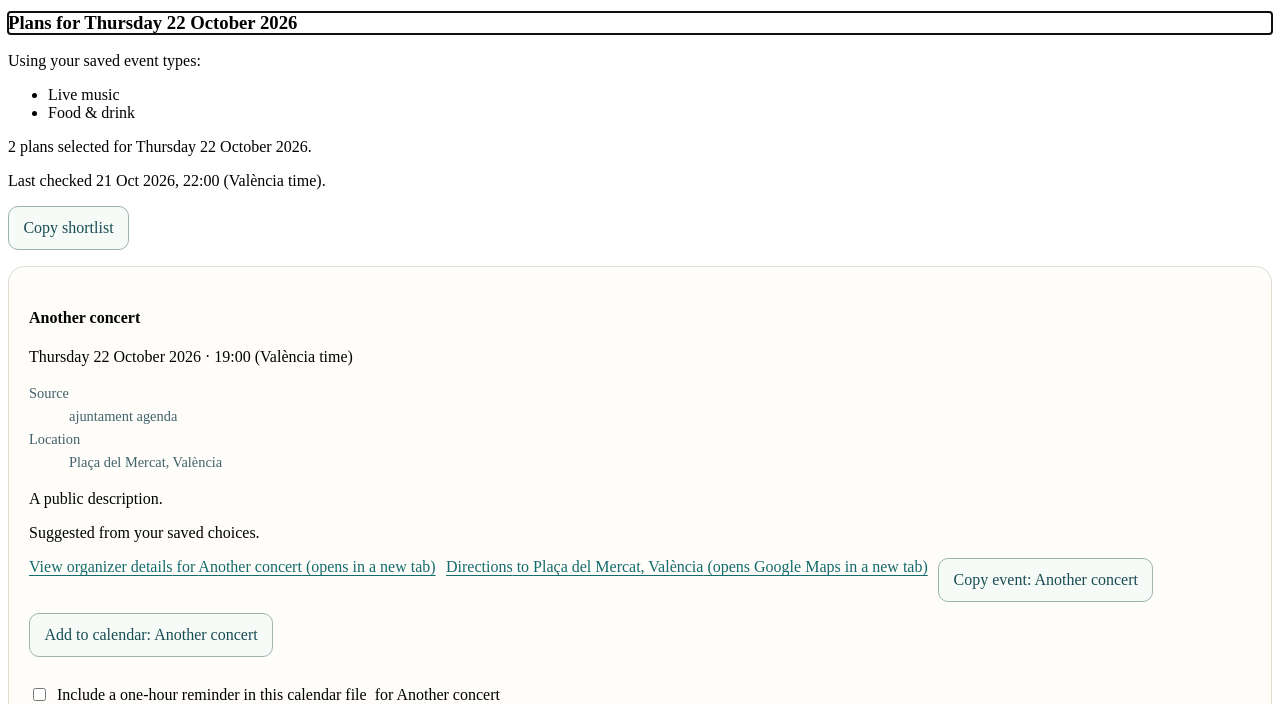
Scenario: recommendation-first planning preview › calendar download requires a click and includes the reminder only when chosen
Click the checkbox. click: (40, 694)
box: [33, 688, 46, 701]
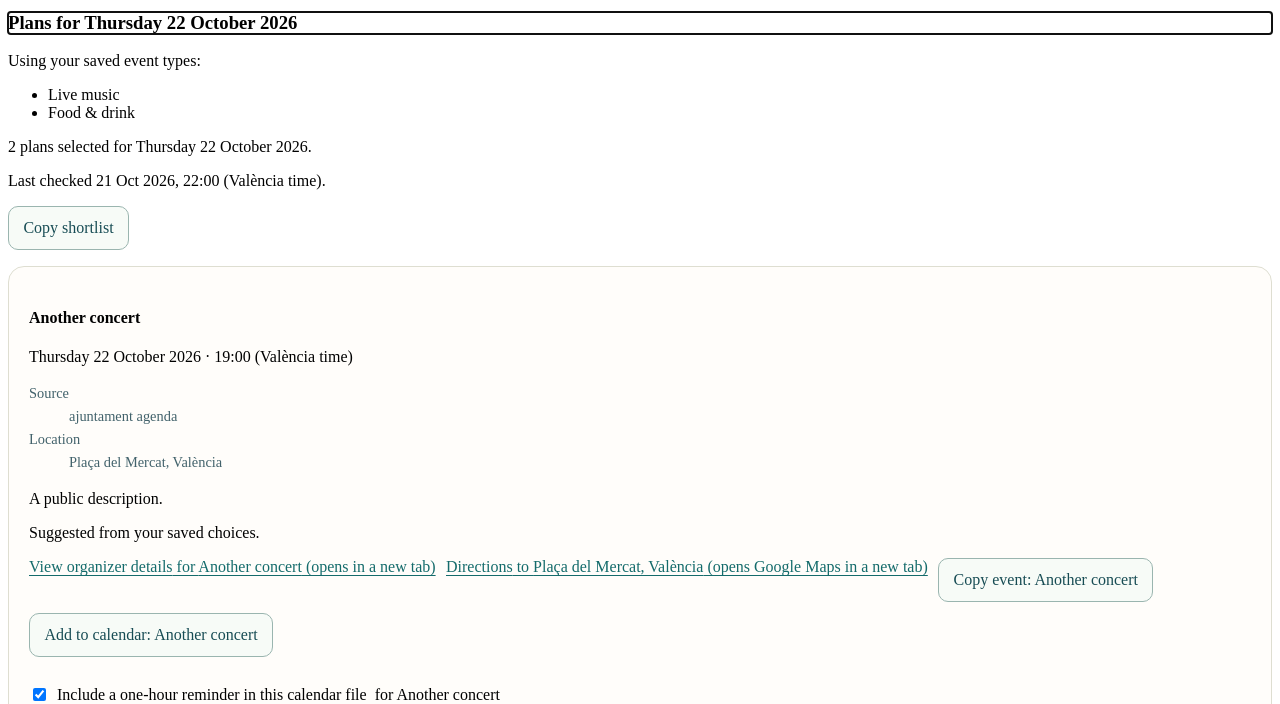
Click the button "Add to calendar: Another concert". click: (151, 634)
box: [29, 612, 273, 656]
(page scrolled)
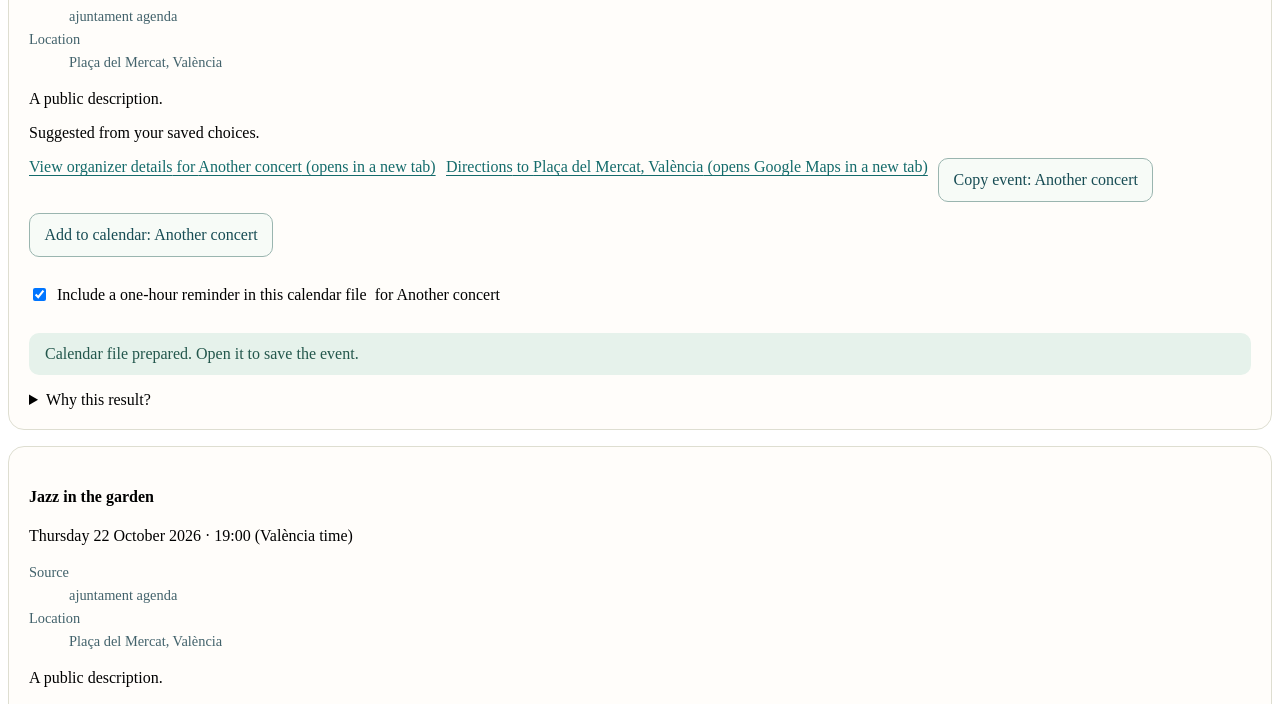
Check: the message "Calendar file prepared. Open it to save the event." is shown, box [29, 332, 1251, 374]
